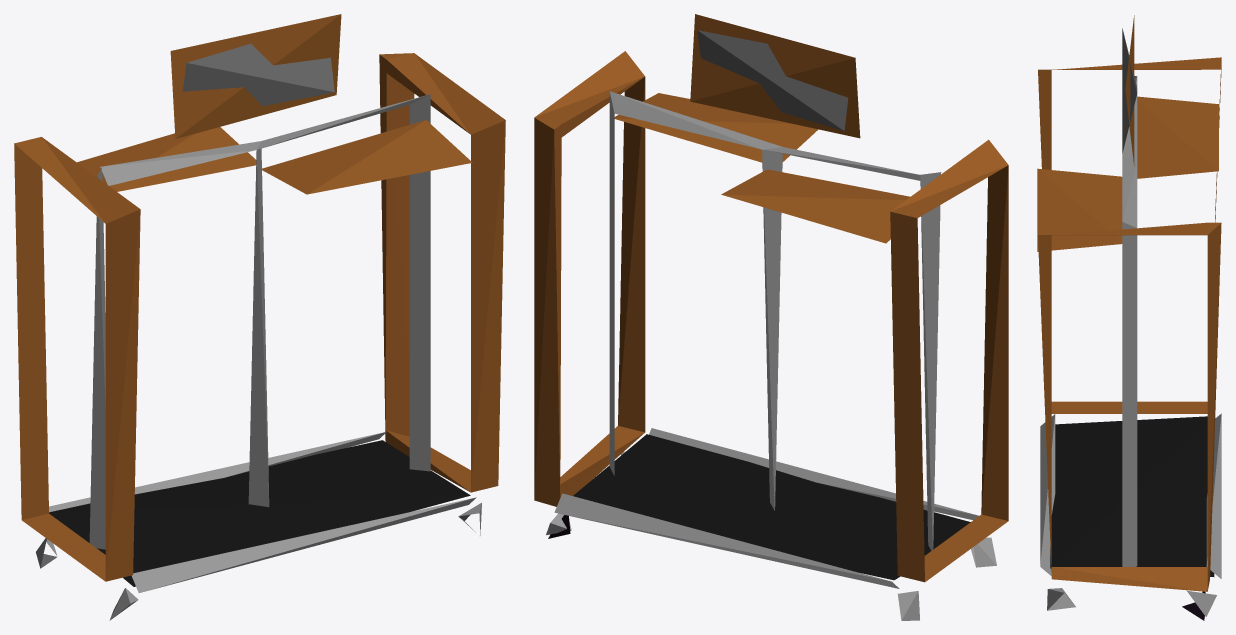
Rendered from ss-clothes-rack.lod2.glb.
The picture shows the model from 3 angles, left to right: view 1: azimuth 30°, elevation 25°; view 2: azimuth 150°, elevation 25°; view 3: azimuth 270°, elevation 25°; orthographic projection. The views are drawn at different scales.
Visible parts, largest first — view 1: Object_5; view 2: Object_5; view 3: Object_5.
Boxes of the visible parts, x1,y1,x2,y2 form: Object_5: (14,14,505,620); Object_5: (534,14,1008,620); Object_5: (1037,15,1221,620).
Size of the model in its own units: 1.14 by 1.45 by 0.4993.
